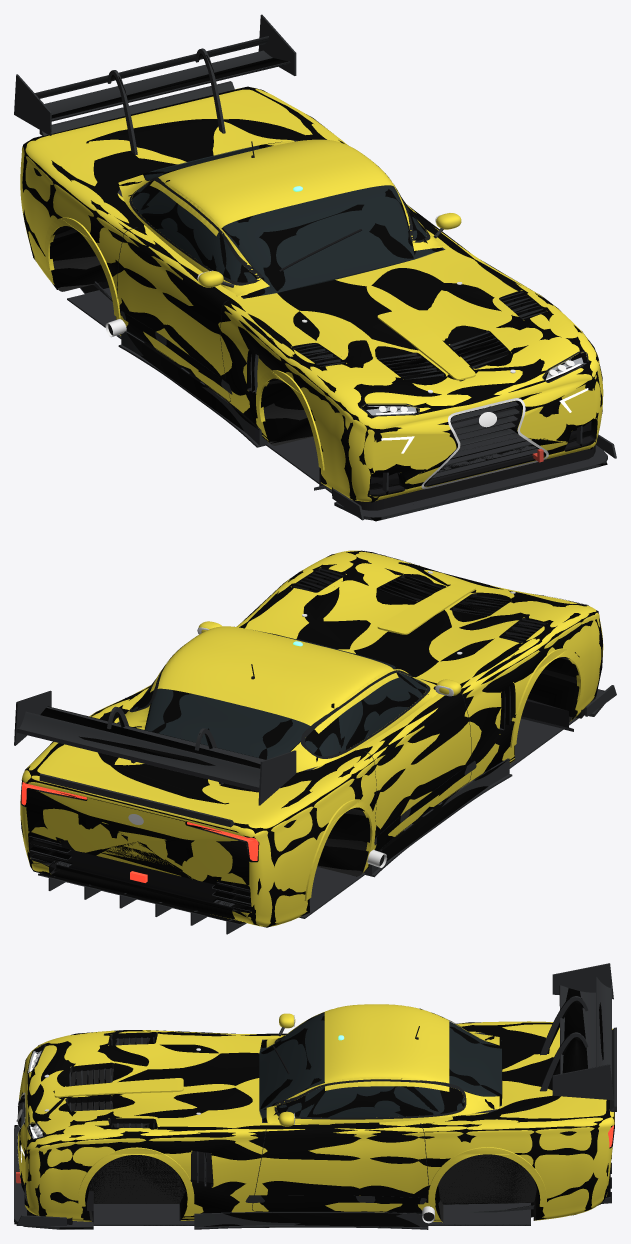
File: lexus.glb
The picture shows the model from 3 angles, top to bottom: view 1: azimuth 30°, elevation 25°; view 2: azimuth 150°, elevation 25°; view 3: azimuth 270°, elevation 25°; orthographic projection. The views are drawn at different scales.
Parts seen in each view (by area): view 1: Shadow, Body, Carbon, Paint, Cabin, Grille, Trim, Chrome; view 2: Shadow, Body, Paint, Carbon, Cabin, Trim, Grille, LightR, Chrome; view 3: Body, Shadow, Paint, Carbon, Cabin, Trim, Chrome.
Boxes of the visible parts, box(x1,y1,x2,y2) form: Shadow: box(22, 16, 607, 521); Body: box(20, 87, 603, 501); Carbon: box(14, 14, 616, 520); Paint: box(45, 139, 475, 470); Cabin: box(126, 141, 434, 295); Grille: box(251, 141, 595, 510); Trim: box(117, 166, 588, 416); Chrome: box(105, 212, 574, 489); Shadow: box(14, 550, 604, 927); Body: box(20, 550, 603, 926); Paint: box(125, 583, 584, 900); Carbon: box(14, 568, 616, 934); Cabin: box(132, 630, 426, 759); Trim: box(129, 550, 588, 850); Grille: box(251, 638, 595, 727); LightR: box(21, 782, 258, 882); Chrome: box(128, 571, 515, 867); Body: box(18, 1021, 614, 1222); Shadow: box(14, 986, 614, 1229); Paint: box(54, 1004, 546, 1207); Carbon: box(14, 963, 616, 1229); Cabin: box(259, 1012, 501, 1118); Trim: box(27, 1012, 466, 1212); Chrome: box(17, 1015, 434, 1223).
Size of the model in its own units: 2.13 by 1.42 by 4.77.
